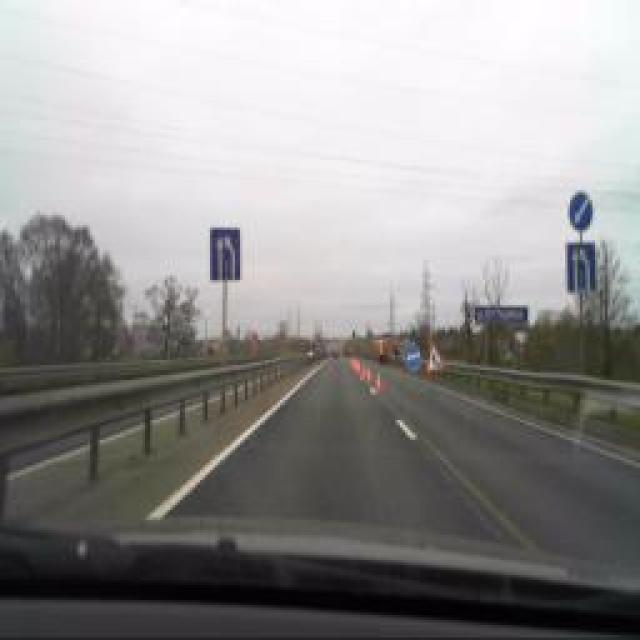sign: (568, 191, 592, 231), (404, 342, 421, 372)
